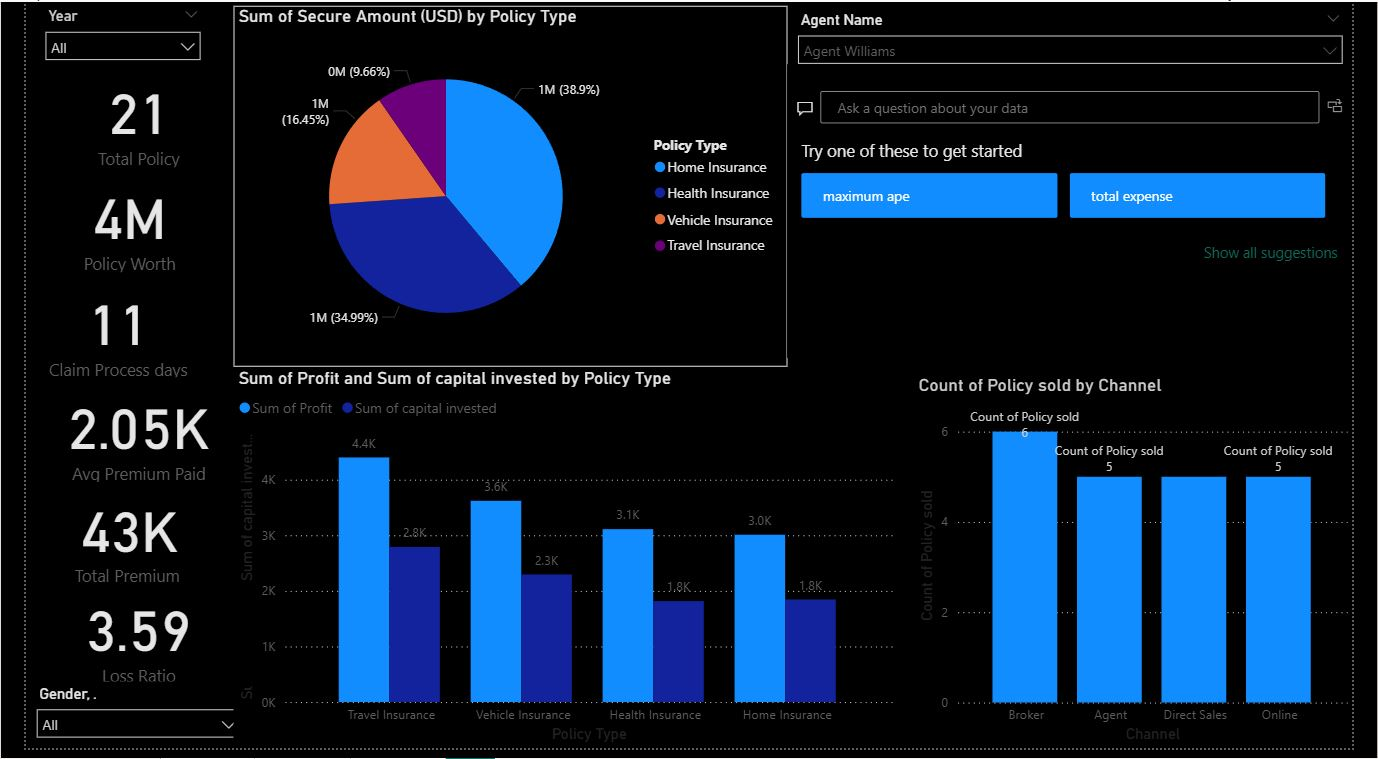

What the dashboard file says about the page in this screenshot:
{"tool":"powerbi","page":{"name":"Page 1","canvas":[1280,720],"ordinal":0},"visuals":[{"type":"card","fields":{"Values":["Assured amount by policy.Total Policy Sold"]},"box":[0,60.4,218.2,104.3],"z":0},{"type":"card","fields":{"Values":["Assured amount by policy.Assured Amount (USD)"]},"box":[0,161.9,200.3,104.3],"z":1000},{"type":"slicer","fields":{"Values":["Assured amount by policy.Agent Name"]},"box":[734.1,4.1,546.1,64.5],"z":2000},{"type":"card","fields":{"Values":["Assured amount by policy.Premium"]},"box":[0,363.6,218.2,107],"z":3000},{"type":"pieChart","fields":{"Category":["Assured amount by policy.Policy Type"],"Y":["Assured amount by policy.Assured Amount (USD)"]},"box":[200.3,3.6,534.5,348.7],"z":4000},{"type":"qnaVisual","box":[734.7,60.3,545.3,283.5],"z":5000},{"type":"clusteredColumnChart","fields":{"Category":["Assured amount by policy.Channel"],"Y":["Assured amount by policy.Policy Type"]},"box":[856,359,424,360.6],"z":6000},{"type":"slicer","fields":{"Values":["Assured amount by policy.Gender","Assured amount by policy.Policy Type1"]},"box":[0,654.1,218.2,65.9],"z":7000},{"type":"clusteredColumnChart","fields":{"Y":["Assured amount by policy.Profit ($)","Assured amount by policy.Expense ($)"],"Category":["Assured amount by policy.Policy Type1"]},"box":[199.8,352.5,641.6,367.1],"z":8000},{"type":"card","fields":{"Values":["Assured amount by policy.Premium"]},"box":[0,463.8,200.3,104.3],"z":9000},{"type":"card","fields":{"Values":["Assured amount by policy.Loss Ratio (%)"]},"box":[0,562.6,218.2,98.8],"z":10000},{"type":"card","fields":{"Values":["Assured amount by policy.Claim Process Time (Days)"]},"box":[0,264.8,178.4,101.5],"z":11000},{"type":"slicer","fields":{"Values":["Assured amount by policy.Year"]},"box":[8.2,0,170.2,78.2],"z":12000}]}

Visuals, with their boxes in screenshot pixels (x1, y1, x2, y2), scaled from the page's 1280x720 canvas onto the 1378x759 screenshot:
card - Assured amount by policy.Total Policy Sold: (0,64,235,174)
card - Assured amount by policy.Assured Amount (USD): (0,171,216,281)
slicer - Assured amount by policy.Agent Name: (790,4,1377,72)
card - Assured amount by policy.Premium: (0,383,235,496)
pieChart - Assured amount by policy.Policy Type x Assured amount by policy.Assured Amount (USD): (216,4,791,371)
qnaVisual: (791,64,1377,362)
clusteredColumnChart - Assured amount by policy.Channel x Assured amount by policy.Policy Type: (922,378,1377,758)
slicer - Assured amount by policy.Gender x Assured amount by policy.Policy Type1: (0,690,235,758)
clusteredColumnChart - Assured amount by policy.Profit ($) x Assured amount by policy.Expense ($): (215,372,906,758)
card - Assured amount by policy.Premium: (0,489,216,599)
card - Assured amount by policy.Loss Ratio (%): (0,593,235,697)
card - Assured amount by policy.Claim Process Time (Days): (0,279,192,386)
slicer - Assured amount by policy.Year: (9,0,192,82)
